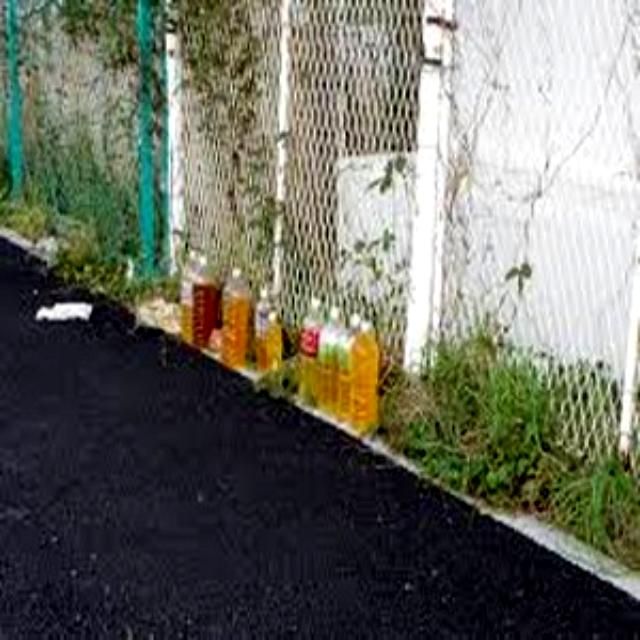Plastic: (349, 311, 387, 434), (222, 262, 250, 366)
